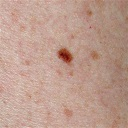Melanoma: (56, 45, 75, 66)
